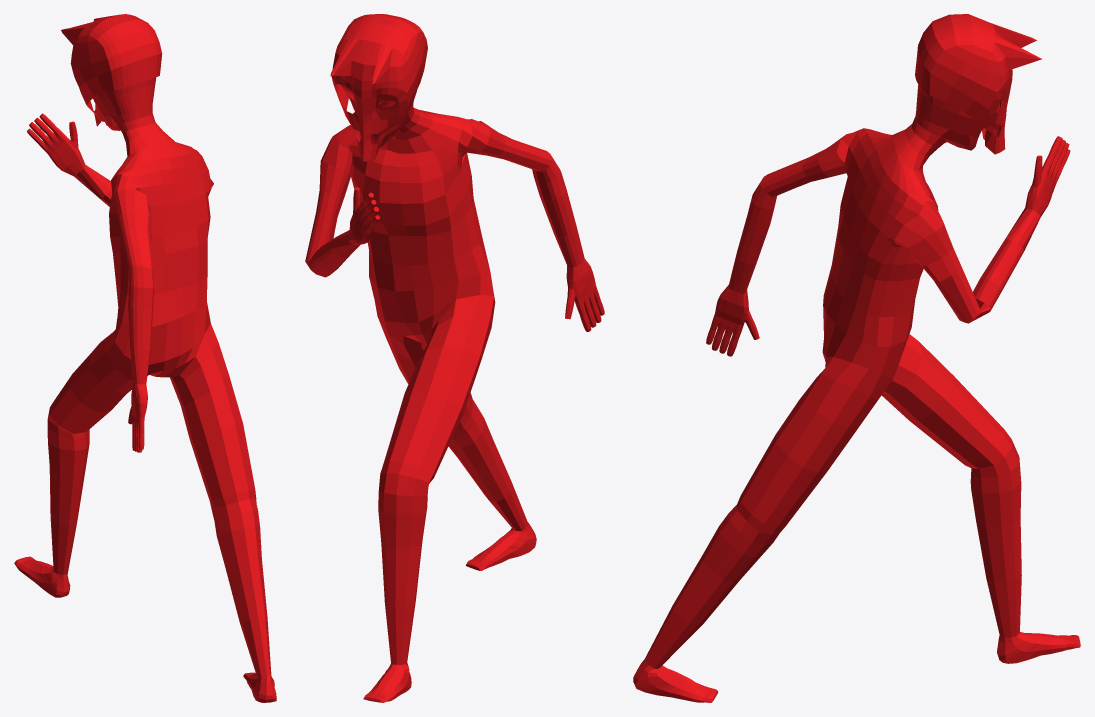
Rendered from marchaE_000040.obj.
3 renders of one model, left to right at view 1: azimuth 30°, elevation 25°; view 2: azimuth 150°, elevation 25°; view 3: azimuth 270°, elevation 25°, orthographic. The views are drawn at different scales.
Visible parts, largest first — view 1: Plane.002_Plane.001; view 2: Plane.002_Plane.001; view 3: Plane.002_Plane.001.
Part boxes in pixels (x1,y1,x2,y2): Plane.002_Plane.001: (14, 14, 276, 702); Plane.002_Plane.001: (305, 14, 604, 702); Plane.002_Plane.001: (633, 14, 1080, 702).
Bounding box in the file's own units: 1.88 × 6.44 × 3.94.
